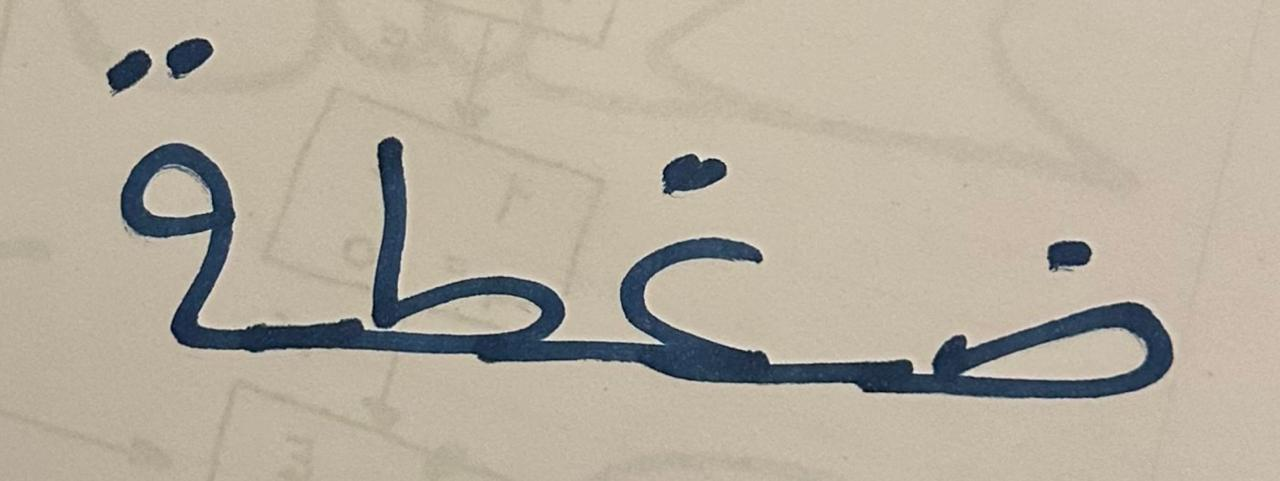dad: (836, 156, 1221, 441)
ghain: (594, 71, 829, 446)
teh: (270, 55, 585, 425)
thal: (66, 9, 266, 419)
